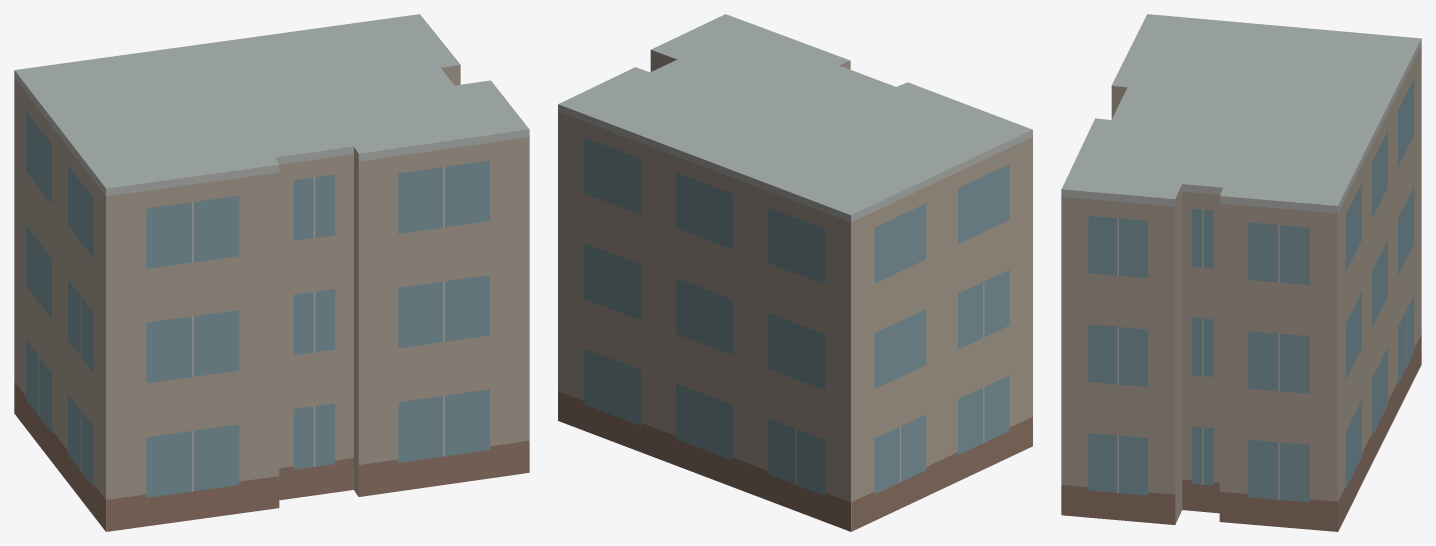
The model's file is survey-upis-32939630.glb.
The picture shows the model from 3 angles, left to right: view 1: azimuth 30°, elevation 25°; view 2: azimuth 150°, elevation 25°; view 3: azimuth 270°, elevation 25°; orthographic projection. The views are drawn at different scales.
Visible parts, largest first — view 1: survey-upis-32939630.tmp; view 2: survey-upis-32939630.tmp; view 3: survey-upis-32939630.tmp.
Boxes of the visible parts, x1,y1,x2,y2 form: survey-upis-32939630.tmp: (14, 14, 529, 531); survey-upis-32939630.tmp: (558, 14, 1032, 531); survey-upis-32939630.tmp: (1061, 14, 1421, 531).
Size of the model in its own units: 13.53 by 10.7 by 10.73.
